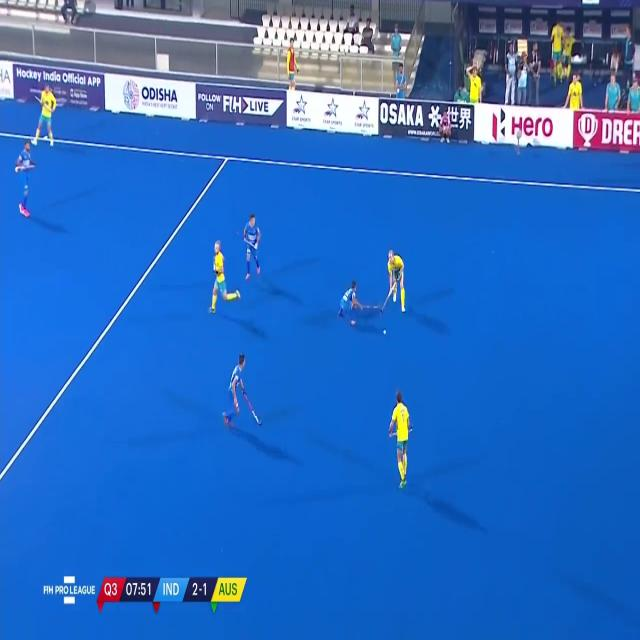ball: (381, 326, 388, 337)
